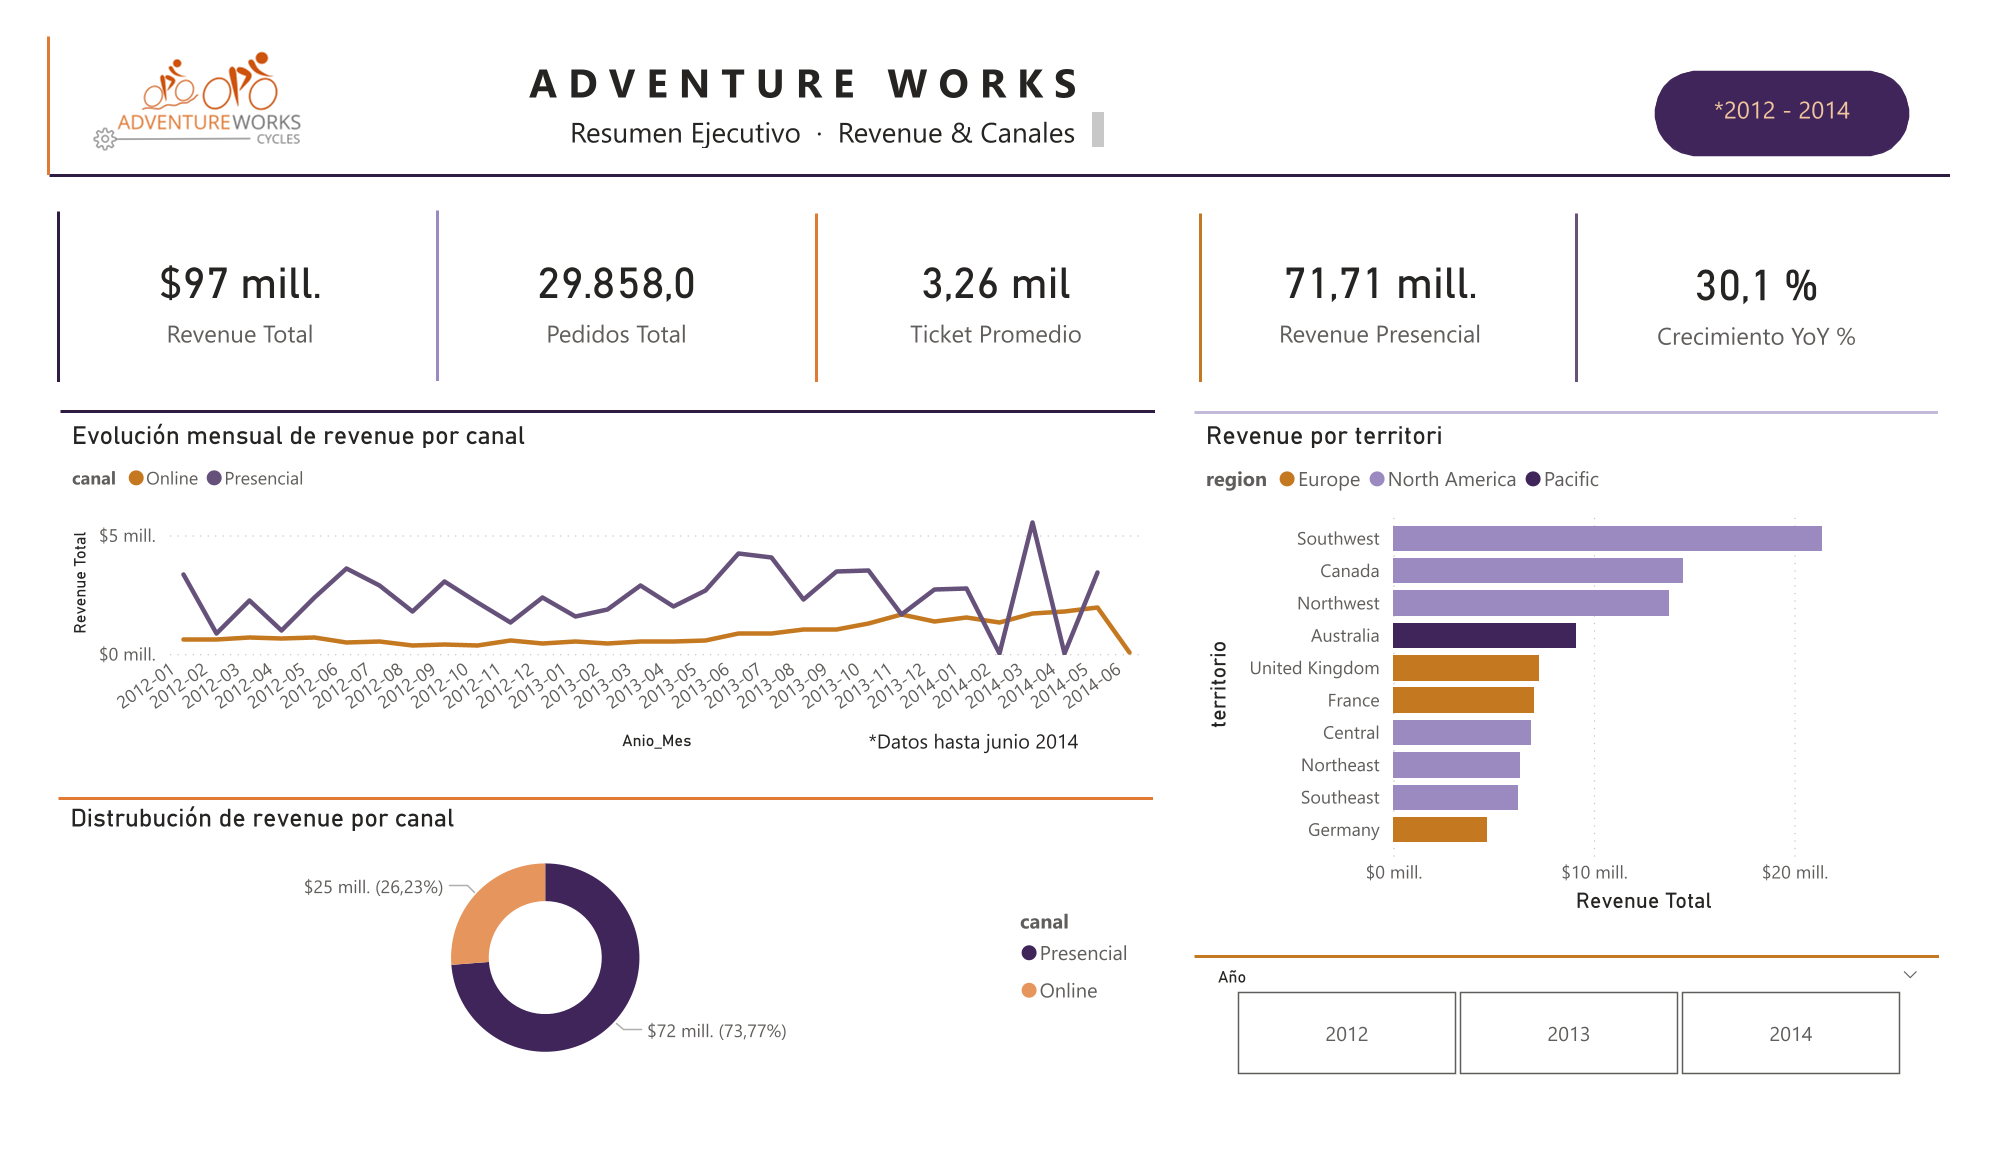

This screenshot's page, from the dashboard's own definition file:
{"tool":"powerbi","page":{"name":"Resumen ejecutivo","canvas":[1280,720],"ordinal":0},"visuals":[{"type":"card","fields":{"Values":["Medidas.Revenue Total"]},"box":[15.7,115.7,240,115.7],"z":0},{"type":"card","fields":{"Values":["Medidas.Pedidos Total"]},"box":[267.1,115.7,240,115.7],"z":1000},{"type":"card","fields":{"Values":["Medidas.Ticket Promedio"]},"box":[520,115.7,240,115.7],"z":2000},{"type":"card","fields":{"Values":["Medidas.Revenue Presencial"]},"box":[775.7,115.7,240,115.7],"z":3000},{"type":"card","fields":{"Values":["Medidas.Crecimiento YoY %"]},"box":[1026.7,116.7,240,116.7],"z":4000},{"type":"lineChart","title":"Evolución mensual de revenue por canal","fields":{"Y":["Medidas.Revenue Total"],"Series":["vw_fact_sales.canal"],"Category":["Calendario.Anio_Mes"]},"box":[15.7,252.9,730,231.4],"z":5000},{"type":"barChart","title":"Revenue por territori","fields":{"Category":["vw_fact_sales.territorio"],"Y":["Medidas.Revenue Total"],"Series":["vw_fact_sales.region"]},"box":[771.7,253.3,498.3,338.3],"z":6000},{"type":"donutChart","title":"Distrubución de revenue por canal","fields":{"Y":["Medidas.Revenue Total"],"Category":["vw_fact_sales.canal"]},"box":[15,508.3,730,193.3],"z":7000},{"type":"slicer","fields":{"Values":["Calendario.Año"]},"box":[771.7,613.3,498.3,88.3],"z":8000},{"type":"textbox","box":[6.7,0,1267.8,92.2],"z":9000,"group":"g1"},{"type":"textbox","box":[550,455.7,150,28.6],"z":9000},{"type":"shape","box":[512.5,117.5,15,113.8],"z":10000},{"type":"image","box":[7.1,8.6,201.4,72.9],"z":11000,"group":"g1"},{"type":"shape","box":[8.6,117.1,12.9,114.3],"z":11000},{"type":"shape","box":[9,90,1267,6],"z":12000,"group":"g1"},{"type":"shape","box":[260,116.2,15,113.8],"z":12000},{"type":"shape","box":[768.8,117.5,15,113.8],"z":13000},{"type":"shape","box":[1020,117.8,14.4,113.3],"z":14000},{"type":"textbox","box":[351.4,45.7,365.7,34.3],"z":15000,"group":"g1"},{"type":"shape","box":[15.7,247.1,730,5.7],"z":15000},{"type":"textbox","box":[1078.6,22.9,170,57.1],"z":16000,"group":"g1"},{"type":"shape","box":[771.7,246.7,496.7,8.3],"z":16000},{"type":"shape","box":[15,505,730,6.7],"z":17000},{"type":"shape","box":[0,0,15.6,93.3],"z":17004,"group":"g1"},{"type":"shape","box":[772.2,606.7,496.7,13.3],"z":18000},{"type":"group","id":"g1","title":"Grupo 1","box":[0,0,1276,96],"z":19000}]}

Visuals, with their boxes in screenshot pixels (x1, y1, x2, y2), scaled from the page's 1280x720 canvas onto the 1992x1152 screenshot:
card - Medidas.Revenue Total: (x1=24, y1=185, x2=398, y2=370)
card - Medidas.Pedidos Total: (x1=416, y1=185, x2=789, y2=370)
card - Medidas.Ticket Promedio: (x1=809, y1=185, x2=1183, y2=370)
card - Medidas.Revenue Presencial: (x1=1207, y1=185, x2=1581, y2=370)
card - Medidas.Crecimiento YoY %: (x1=1598, y1=187, x2=1971, y2=373)
"Evolución mensual de revenue por canal" lineChart: (x1=24, y1=405, x2=1160, y2=775)
"Revenue por territori" barChart: (x1=1201, y1=405, x2=1976, y2=947)
"Distrubución de revenue por canal" donutChart: (x1=23, y1=813, x2=1159, y2=1123)
slicer - Calendario.Año: (x1=1201, y1=981, x2=1976, y2=1123)
textbox: (x1=10, y1=0, x2=1983, y2=148)
textbox: (x1=856, y1=729, x2=1089, y2=775)
shape: (x1=798, y1=188, x2=821, y2=370)
image: (x1=11, y1=14, x2=324, y2=130)
shape: (x1=13, y1=187, x2=33, y2=370)
shape: (x1=14, y1=144, x2=1986, y2=154)
shape: (x1=405, y1=186, x2=428, y2=368)
shape: (x1=1196, y1=188, x2=1220, y2=370)
shape: (x1=1587, y1=188, x2=1610, y2=370)
textbox: (x1=547, y1=73, x2=1116, y2=128)
shape: (x1=24, y1=395, x2=1160, y2=404)
textbox: (x1=1679, y1=37, x2=1943, y2=128)
shape: (x1=1201, y1=395, x2=1974, y2=408)
shape: (x1=23, y1=808, x2=1159, y2=819)
shape: (x1=0, y1=0, x2=24, y2=149)
shape: (x1=1202, y1=971, x2=1975, y2=992)
"Grupo 1" group: (x1=0, y1=0, x2=1986, y2=154)
